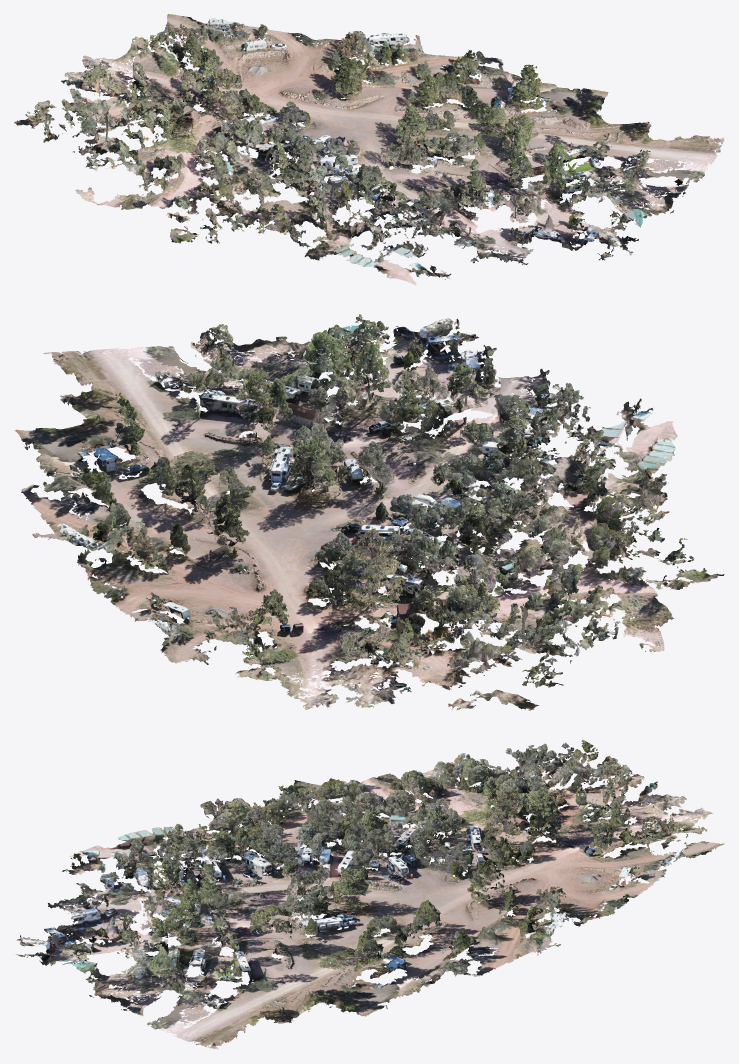
File: flight_mobile.glb
3 views of the same model, one above another, from view 1: azimuth 30°, elevation 25°; view 2: azimuth 150°, elevation 25°; view 3: azimuth 270°, elevation 25° (orthographic). The views are drawn at different scales.
Parts seen in each view (by area): view 1: Node; view 2: Node; view 3: Node.
Part boxes in pixels (bbox=[...]): Node: bbox=[14, 14, 724, 285]; Node: bbox=[14, 314, 724, 710]; Node: bbox=[14, 739, 724, 1049].
Bounding box in the file's own units: 198 × 25.66 × 207.
Materials: 113 (113 with a texture image).
